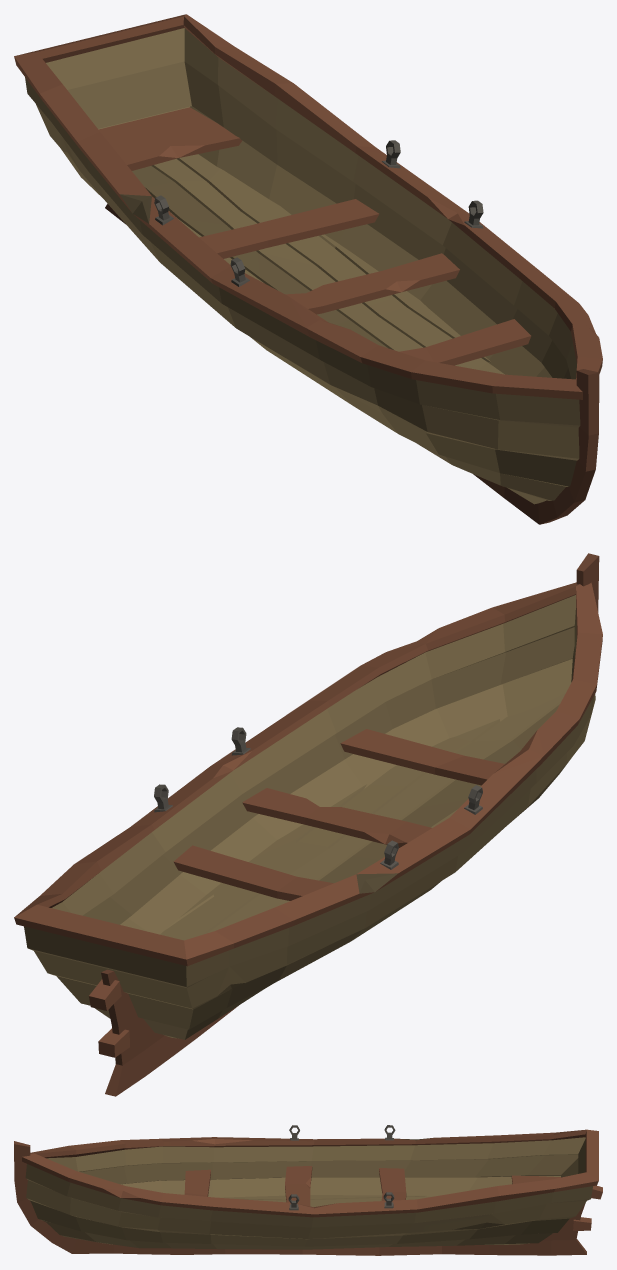
File: BoatLarge_3.fbx
3 renders of one model, top to bottom at view 1: azimuth 30°, elevation 25°; view 2: azimuth 150°, elevation 25°; view 3: azimuth 270°, elevation 25°, orthographic. The views are drawn at different scales.
Visible parts, largest first — view 1: BoatLarge_3; view 2: BoatLarge_3; view 3: BoatLarge_3.
Part boxes in pixels (box(x1,y1,x2,y2)): BoatLarge_3: box(14, 14, 602, 524); BoatLarge_3: box(14, 553, 602, 1096); BoatLarge_3: box(14, 1125, 602, 1255).
Size of the model in its own units: 187 by 129 by 618.
